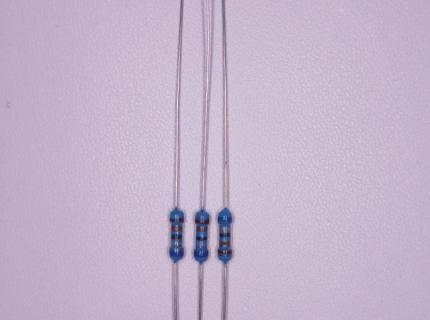Black band: (219, 233, 230, 238), (196, 237, 207, 241), (171, 235, 182, 239)
Blue band: (169, 251, 183, 257), (194, 252, 208, 257), (218, 217, 232, 222)
Brown band: (195, 219, 209, 224), (170, 217, 183, 222), (218, 250, 232, 254)
Grey band: (196, 242, 207, 246), (171, 242, 182, 245), (220, 227, 230, 230)
Orange band: (219, 241, 231, 247), (171, 226, 182, 232), (197, 227, 208, 231)
